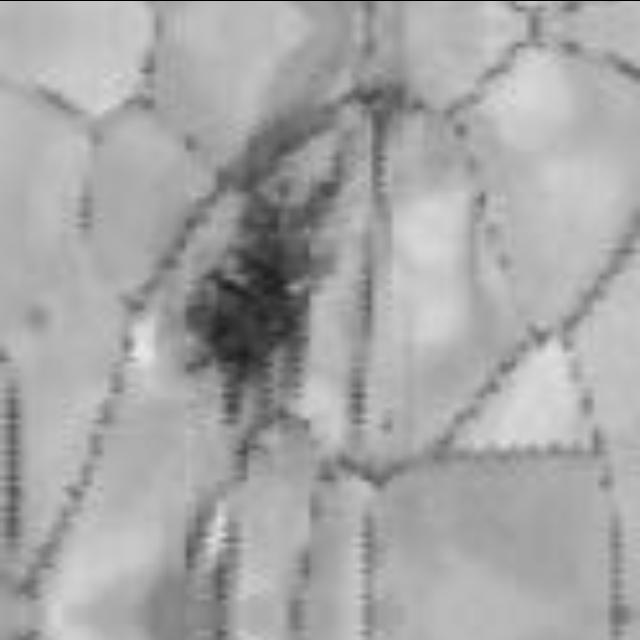good_void: (143, 125, 377, 434)
